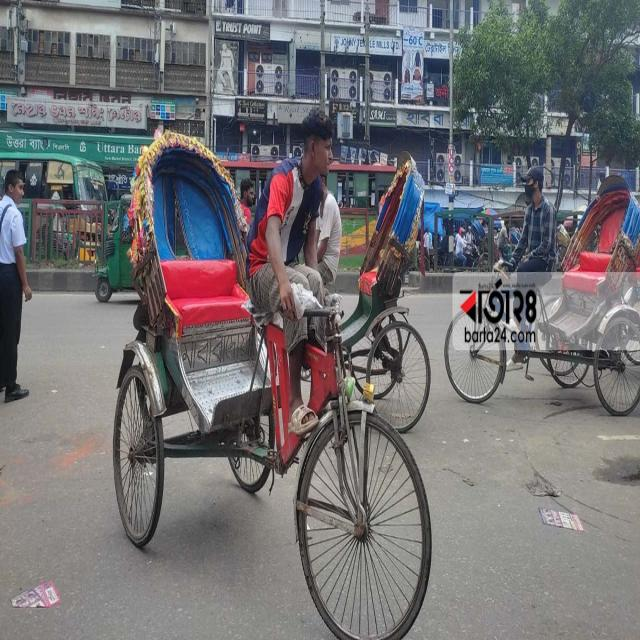rickshaw: (102, 98, 433, 640), (447, 144, 632, 393)
